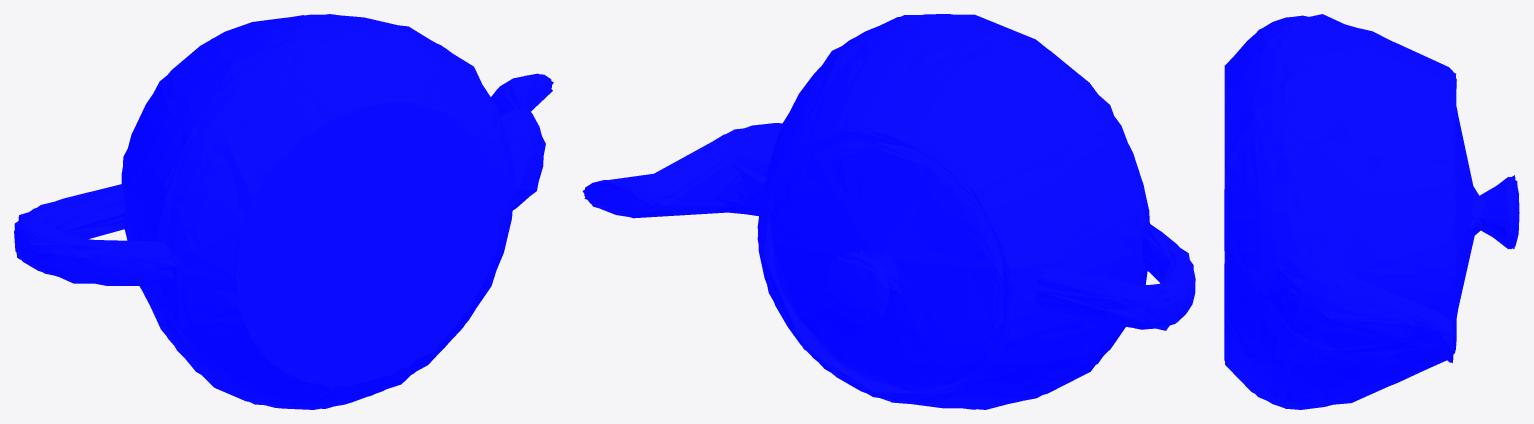
File: teapot.glb
3 views of the same model, side by side, from view 1: azimuth 30°, elevation 25°; view 2: azimuth 150°, elevation 25°; view 3: azimuth 270°, elevation 25° (orthographic). The views are drawn at different scales.
Parts seen in each view (by area): view 1: high, mid, low; view 2: high, low, mid; view 3: high, mid, low.
Part boxes in pixels (x1,y1,x2,y2): high: [14, 14, 551, 409]; mid: [14, 14, 553, 408]; low: [18, 15, 552, 408]; high: [584, 14, 1195, 408]; low: [584, 14, 1194, 409]; mid: [582, 15, 1193, 409]; high: [1224, 17, 1519, 409]; mid: [1225, 15, 1517, 404]; low: [1225, 14, 1515, 404].
Size of the model in its own units: 6.45 by 4 by 3.
